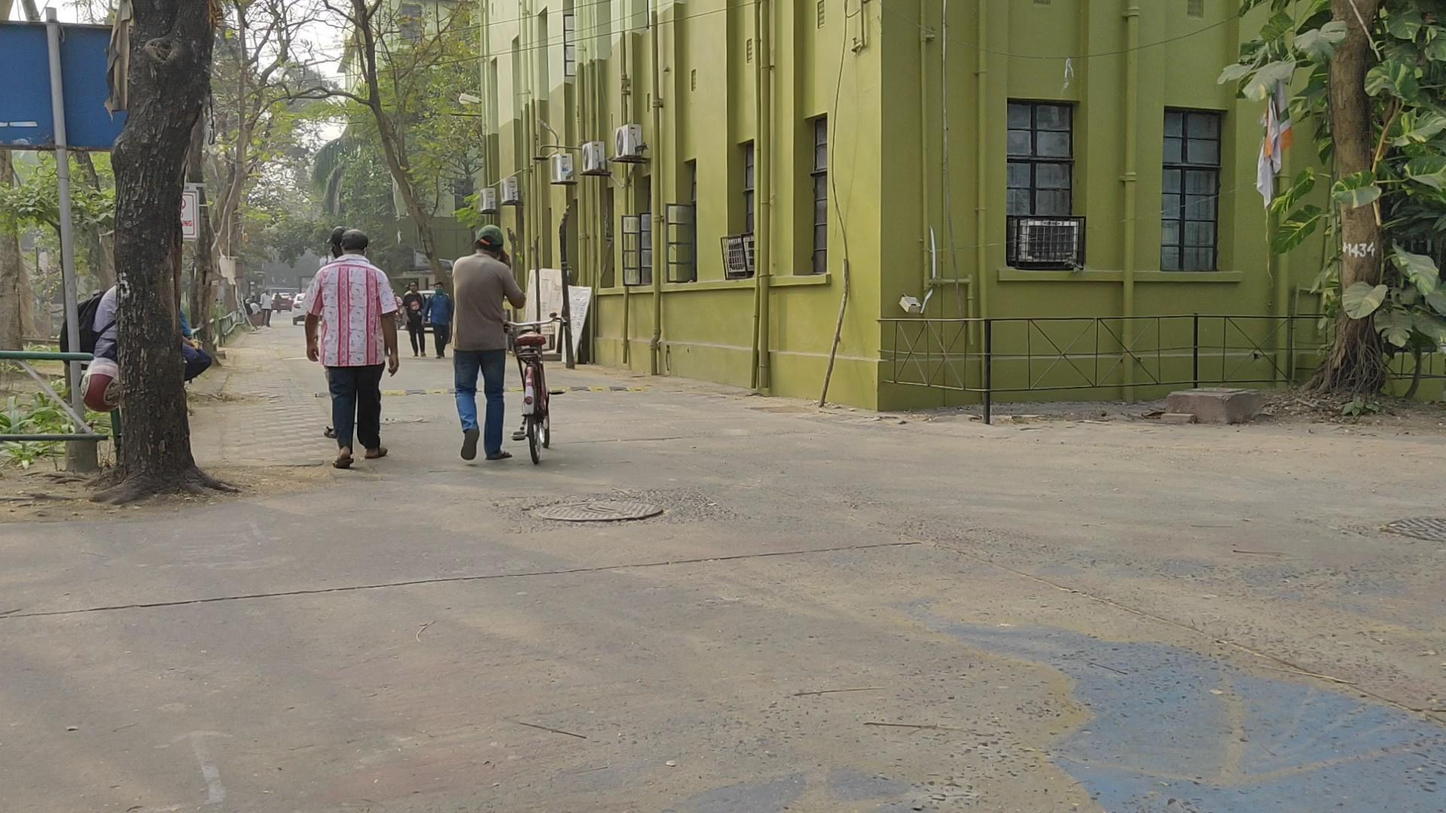bike: (502, 312, 578, 465)
